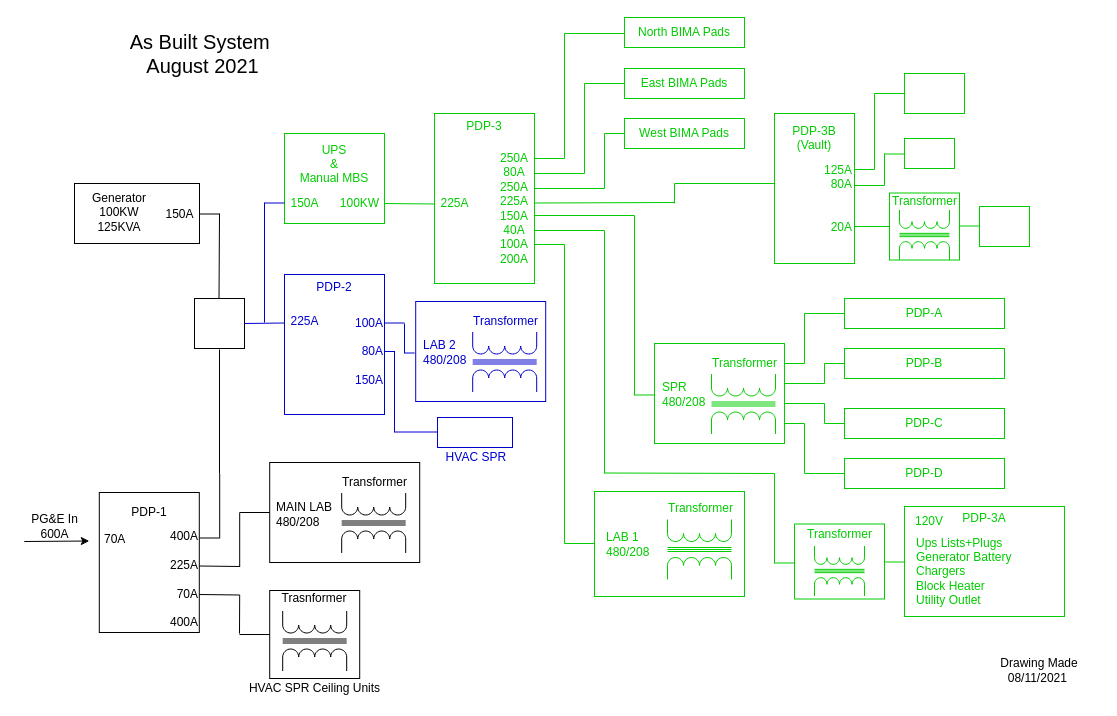
The diagram is 1117 pixels wide and 716 high, and some of its shapes have lost their labels. Here are the shapes that lost their labels. From the top down, the centre of each, then its label:
At pixel 934 93: "Nodes 1,2,3".
At pixel 929 153: "Nodes 4,5".
At pixel 1004 226: "Sump Pump".
At pixel 219 323: "400A ATS".
At pixel 474 432: "Liebert".
